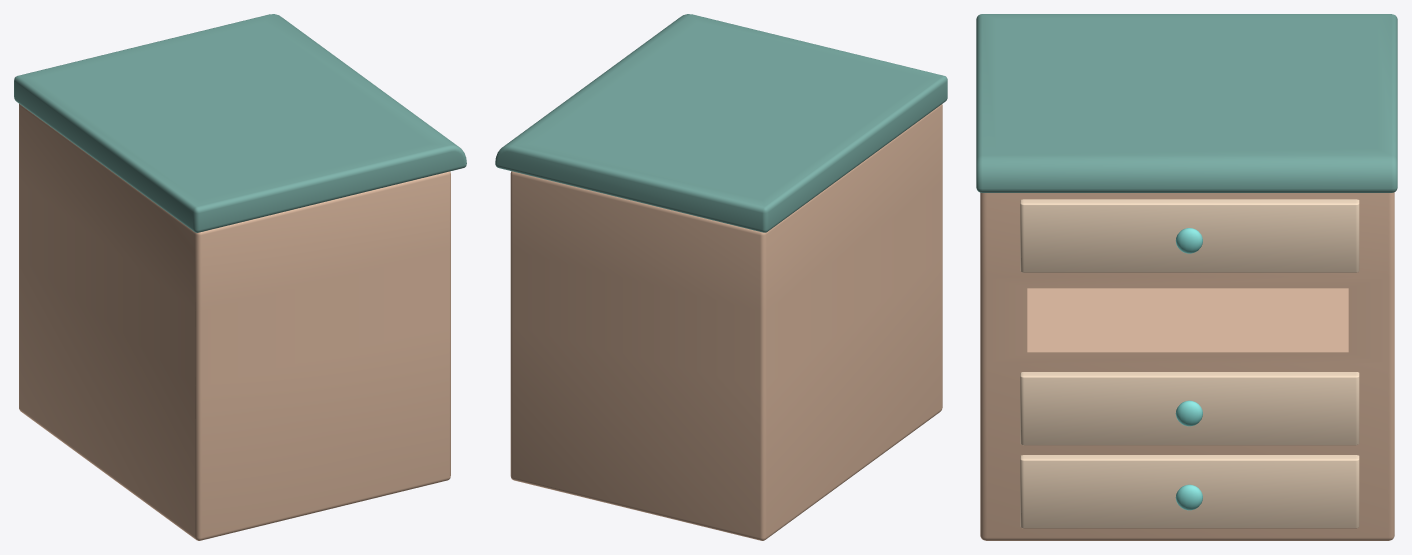
Rendered from szafkaszufladowa.fbx.
3 views of the same model, side by side, from view 1: azimuth 30°, elevation 25°; view 2: azimuth 150°, elevation 25°; view 3: azimuth 270°, elevation 25° (orthographic). The views are drawn at different scales.
Visible parts, largest first — view 1: Cube.012, Cube.013; view 2: Cube.012, Cube.013; view 3: Cube.013, Cube.012, Cube.047, Cube.045, Cube.014, Sphere.005, Sphere.007, Sphere.002.
Boxes of the visible parts, x1,y1,x2,y2 form: Cube.012: (19,104,450,540); Cube.013: (14,14,466,232); Cube.012: (510,104,942,540); Cube.013: (495,14,947,232); Cube.013: (976,14,1397,192); Cube.012: (980,192,1394,540); Cube.047: (1020,199,1359,272); Cube.045: (1020,455,1359,528); Cube.014: (1020,372,1359,445); Sphere.005: (1175,484,1202,510); Sphere.007: (1175,228,1202,253); Sphere.002: (1175,400,1202,426).
Size of the model in its own units: 528 by 610 by 604.
